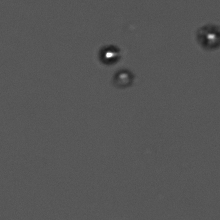Dead Cell: (110, 67, 137, 91)
Living Cell: (94, 42, 123, 66), (197, 22, 220, 50)
